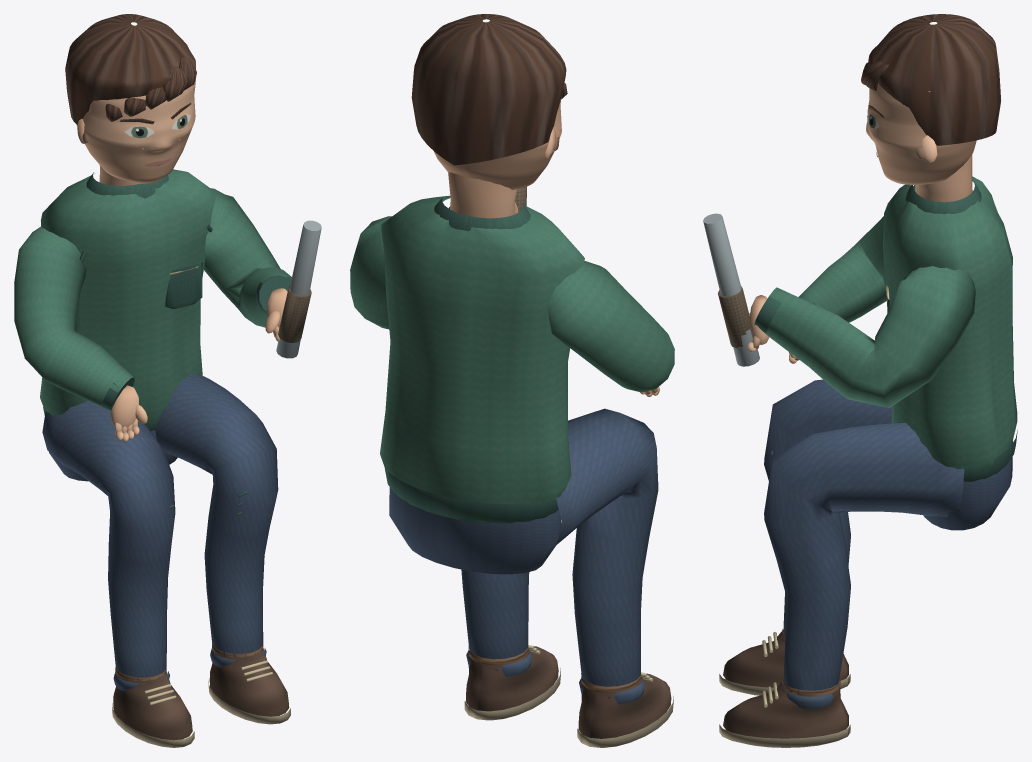
The model's file is HERO-05_vovik-seated.glb.
3 renders of one model, left to right at view 1: azimuth 30°, elevation 25°; view 2: azimuth 150°, elevation 25°; view 3: azimuth 270°, elevation 25°, orthographic. The views are drawn at different scales.
Visible parts, largest first — view 1: vovik · soles; view 2: vovik · soles; view 3: vovik · soles.
Boxes of the visible parts, x1,y1,x2,y2 form: vovik · soles: (14,14,321,747); vovik · soles: (350,14,674,747); vovik · soles: (703,14,1017,747).
Bounding box in the file's own units: 0.4813 × 1.13 × 0.4689.
Materials: 2 (2 with a texture image).
